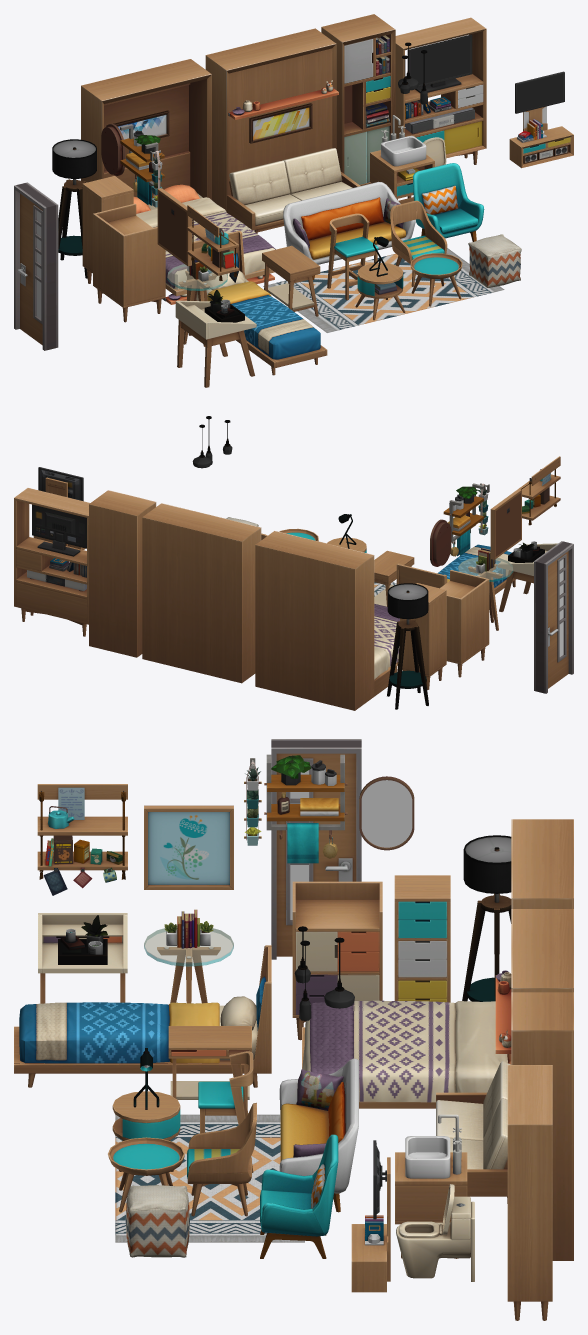
The model's file is house_itens.glb.
3 renders of one model, top to bottom at view 1: azimuth 30°, elevation 25°; view 2: azimuth 150°, elevation 25°; view 3: azimuth 270°, elevation 25°, orthographic. The views are drawn at different scales.
Parts seen in each view (by area): view 1: s4studio_mesh_1_3, TinyLiving_MurphyBed_2, TinyLiving_MediaMarathoner_8, TinyLiving_PowerTowerBookcase_47, TinyLiving_ContemporaryCarpet_40, TinyLiving_StubbyCubbyDresser_38, TinyLiving_LovelyLoveseat_12, TinyLiving_Space-SavingSingle_13, TinyLiving_MurphyLoveSeat_4, s4studio_mesh_1.001_15, TinyLiving_LovelyArmchair_33, s4studio_mesh_4_1 (+28 smaller); view 2: TinyLiving_MurphyBed_2, TinyLiving_MurphyLoveSeat_4, TinyLiving_MediaMarathoner_8, TinyLiving_PowerTowerBookcase_47, TinyLiving_StubbyCubbyDresser_38, s4studio_mesh_1.001_15, TinyLiving_LampWithoutStorage_20, TinyLiving_PowerTowerDresser_24, TinyLiving_Space-SavingSingle_13, TinyLiving_SimpleandCleanArt_39, TinyLiving_TieredShelf_29, TinyLiving_OpenShelf_31 (+13 smaller); view 3: s4studio_mesh_4_1, TinyLiving_Space-SavingSingle_13, TinyLiving_MediaMarathoner_8, TinyLiving_StubbyCubbyDresser_38, TinyLiving_PowerTowerBookcase_47, TinyLiving_ContemporaryCarpet_40, TinyLiving_JustALittlePeek_18, TinyLiving_LovelyLoveseat_12, TinyLiving_SimpleandCleanArt_39, s4studio_mesh_1_3, TinyLiving_PowerTowerDresser_24, TinyLiving_OpenShelf_31 (+22 smaller).
Boxes of the visible parts, x1,y1,x2,y2 form: s4studio_mesh_1_3: (227, 48, 360, 233); TinyLiving_MurphyBed_2: (81, 59, 211, 199); TinyLiving_MediaMarathoner_8: (395, 17, 486, 164); TinyLiving_PowerTowerBookcase_47: (321, 14, 395, 185); TinyLiving_ContemporaryCarpet_40: (263, 248, 504, 332); TinyLiving_StubbyCubbyDresser_38: (93, 203, 165, 322); TinyLiving_LovelyLoveseat_12: (283, 181, 415, 279); TinyLiving_Space-SavingSingle_13: (187, 230, 327, 375); TinyLiving_MurphyLoveSeat_4: (205, 28, 336, 213); s4studio_mesh_1.001_15: (14, 184, 51, 350); TinyLiving_LovelyArmchair_33: (413, 163, 484, 241); s4studio_mesh_4_1: (133, 184, 275, 289); TinyLiving_MurphyBed_2: (255, 531, 374, 710); TinyLiving_MurphyLoveSeat_4: (142, 503, 261, 683); TinyLiving_MediaMarathoner_8: (14, 488, 89, 636); TinyLiving_PowerTowerBookcase_47: (89, 490, 156, 657); TinyLiving_StubbyCubbyDresser_38: (440, 570, 489, 677); s4studio_mesh_1.001_15: (540, 542, 573, 693); TinyLiving_LampWithoutStorage_20: (387, 583, 428, 709); TinyLiving_PowerTowerDresser_24: (400, 583, 446, 689); TinyLiving_Space-SavingSingle_13: (396, 544, 516, 594); TinyLiving_SimpleandCleanArt_39: (490, 489, 521, 559); TinyLiving_TieredShelf_29: (443, 483, 484, 556); TinyLiving_OpenShelf_31: (518, 456, 560, 520); s4studio_mesh_4_1: (302, 1000, 511, 1102); TinyLiving_Space-SavingSingle_13: (14, 945, 271, 1087); TinyLiving_MediaMarathoner_8: (507, 1065, 552, 1320); TinyLiving_StubbyCubbyDresser_38: (292, 881, 382, 1040); TinyLiving_PowerTowerBookcase_47: (511, 992, 573, 1260); TinyLiving_ContemporaryCarpet_40: (115, 1114, 304, 1242); TinyLiving_JustALittlePeek_18: (271, 744, 361, 959); TinyLiving_LovelyLoveseat_12: (279, 1058, 358, 1212); TinyLiving_SimpleandCleanArt_39: (144, 805, 233, 889); s4studio_mesh_1_3: (436, 970, 511, 1203); TinyLiving_PowerTowerDresser_24: (394, 875, 450, 1002); TinyLiving_OpenShelf_31: (37, 784, 127, 895).
Bounding box in the file's own units: 8.95 × 3 × 5.27.
41 materials, 37 textured.
